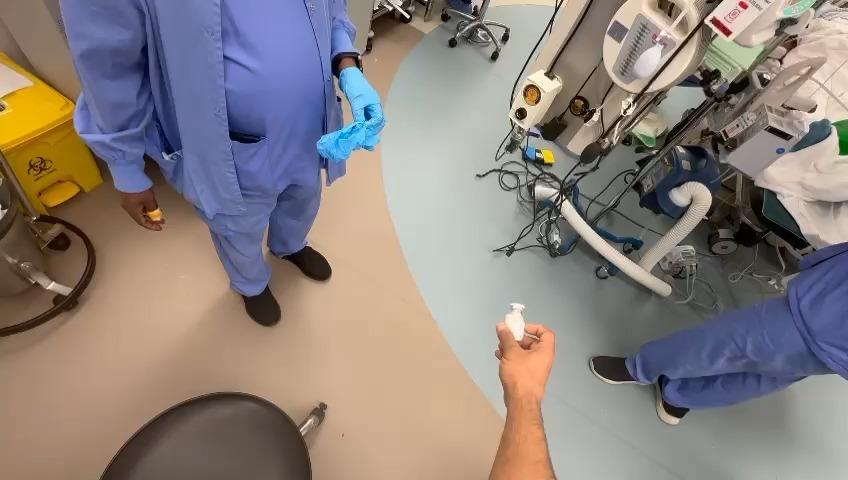augmentin: (505, 303, 525, 340)
